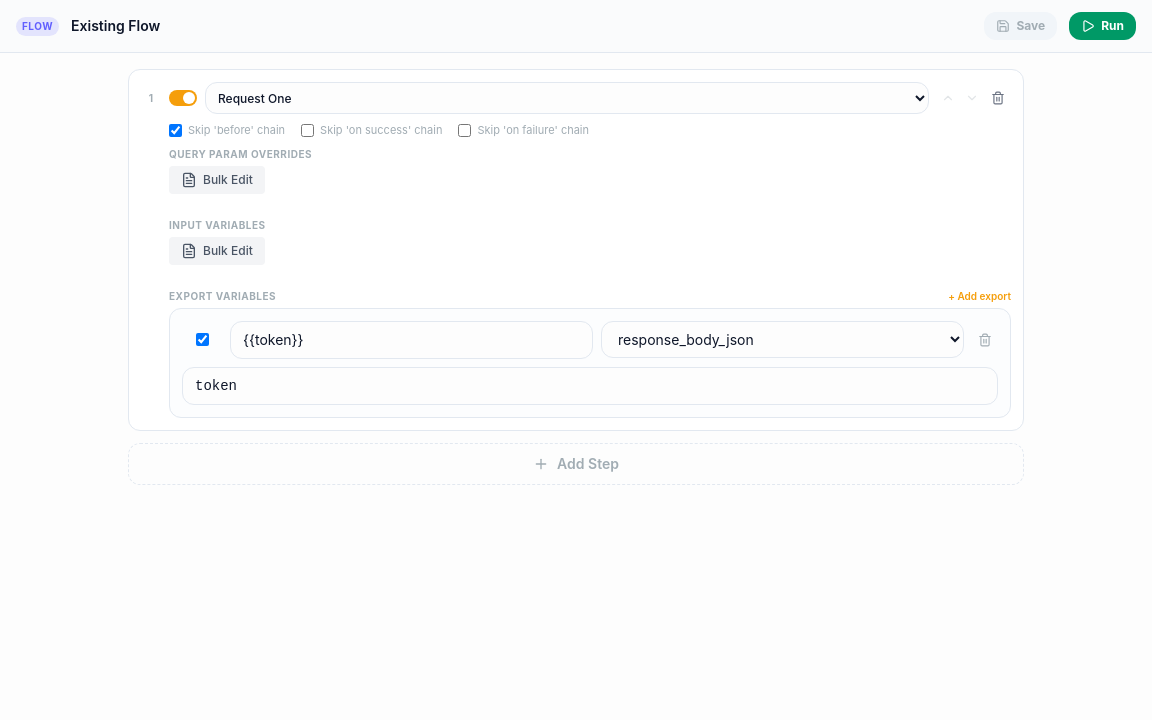
Test case: FlowEditor › runs the flow and displays per-step results with a trace
Check: the field showing "Existing Flow" next to "Flow" is shown, box [71,16,972,36]
Click the button "Run" at (1103, 26), box [1069,12,1136,40]
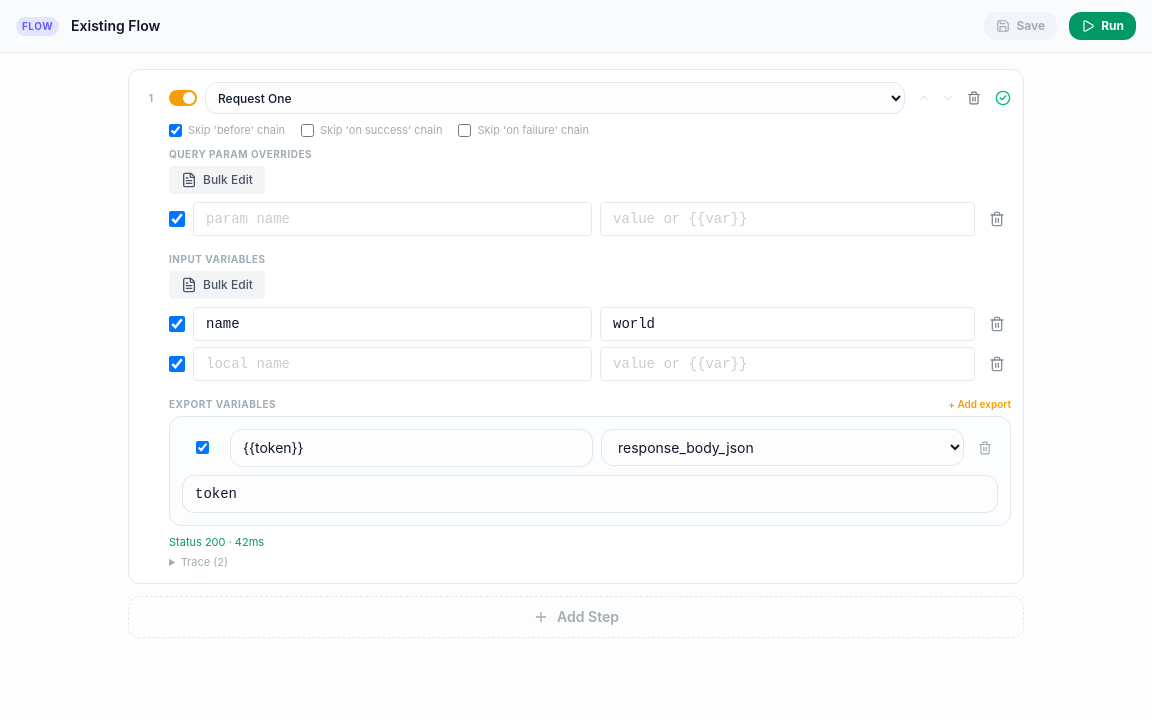
Check: the text "Status 200 · 42ms" is shown, box [169,534,264,548]
Check: the heading "Trace (2)" is shown, box [181,555,228,569]
